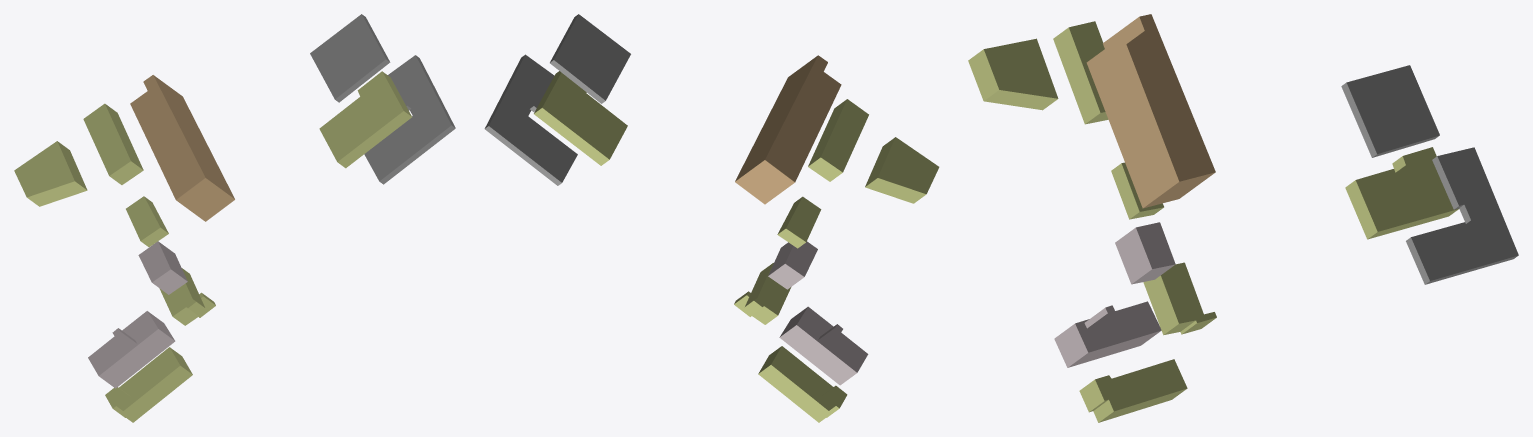
The picture shows the model from 3 angles, left to right: view 1: azimuth 30°, elevation 25°; view 2: azimuth 150°, elevation 25°; view 3: azimuth 330°, elevation 25°; orthographic projection. The views are drawn at different scales.
Parts seen in each view (by area): view 1: 0_1_0_2_1_3_2; view 2: 0_1_0_2_1_3_2; view 3: 0_1_0_2_1_3_2.
Boxes of the visible parts, x1,y1,x2,y2 form: 0_1_0_2_1_3_2: [14, 14, 455, 422]; 0_1_0_2_1_3_2: [484, 14, 939, 422]; 0_1_0_2_1_3_2: [968, 14, 1518, 422].
Bounding box in the file's own units: 178 × 133 × 22.1.
